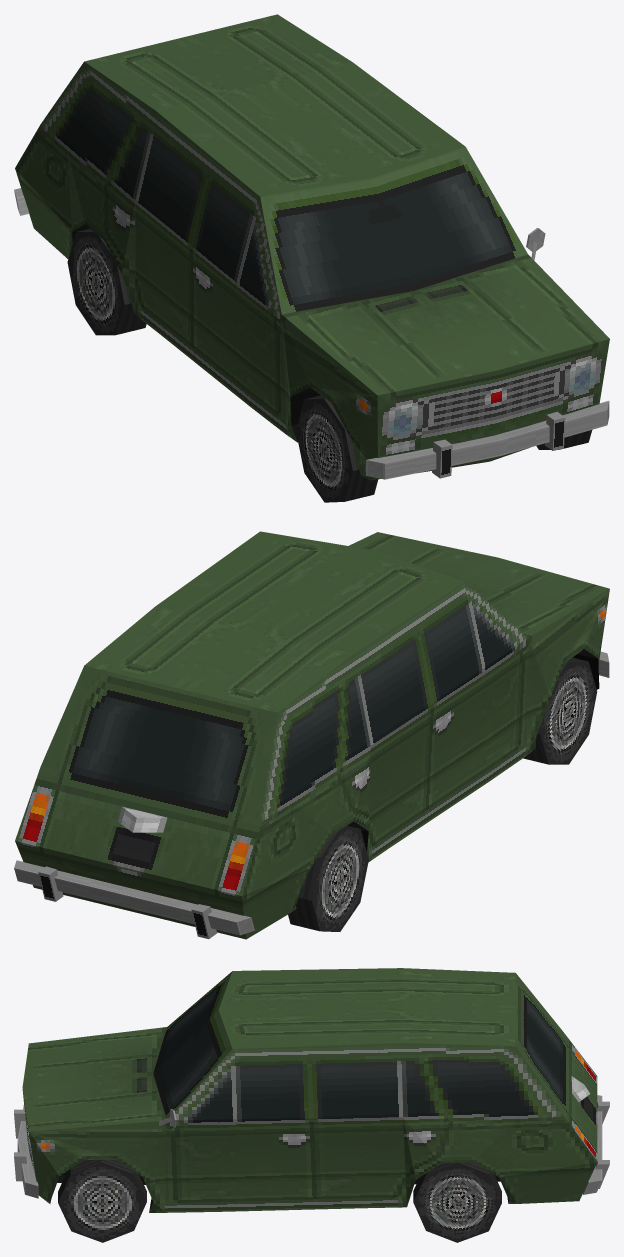
Rendered from Car.glb.
3 renders of one model, top to bottom at view 1: azimuth 30°, elevation 25°; view 2: azimuth 150°, elevation 25°; view 3: azimuth 270°, elevation 25°, orthographic. The views are drawn at different scales.
Parts seen in each view (by area): view 1: Car; view 2: Car; view 3: Car.
Boxes of the visible parts, bbox=[...] form: Car: bbox=[14, 14, 609, 502]; Car: bbox=[14, 531, 609, 939]; Car: bbox=[14, 968, 609, 1242].
Bounding box in the file's own units: 2.56 × 2.17 × 6.15.
1 material, 1 textured.
